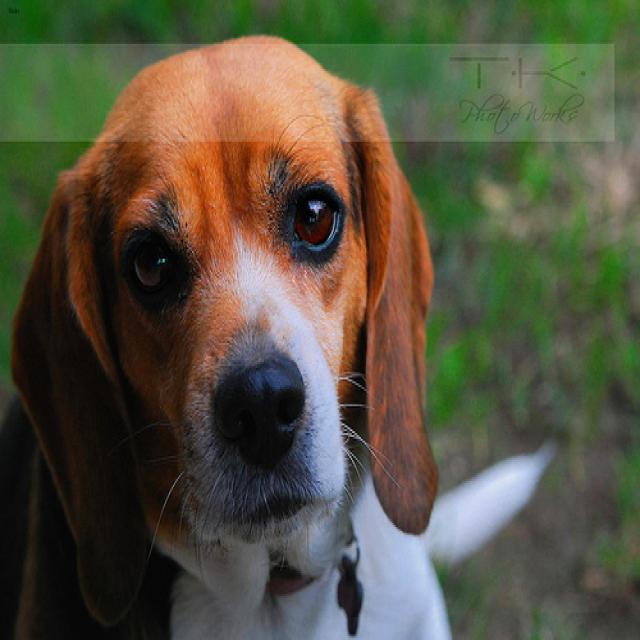dog-beagle: (1, 23, 564, 636)
